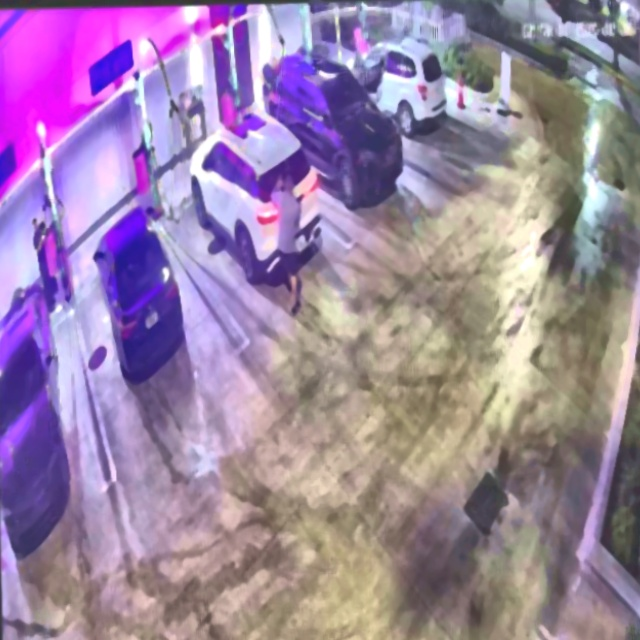Car: (189, 110, 321, 282), (264, 51, 402, 207), (93, 203, 186, 379)
